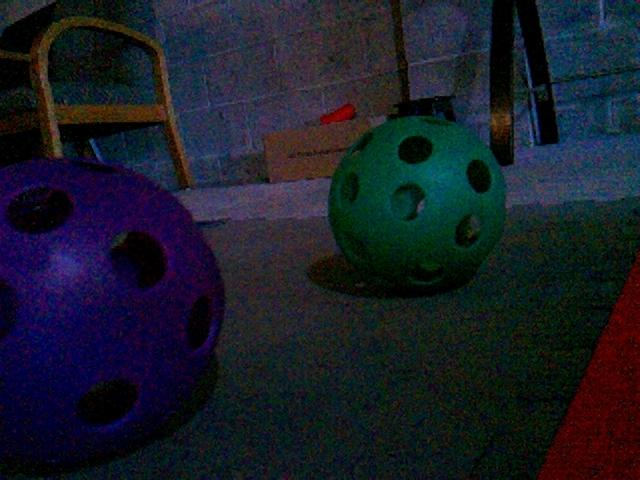Green: (325, 116, 506, 291)
Purple: (0, 159, 227, 473)
